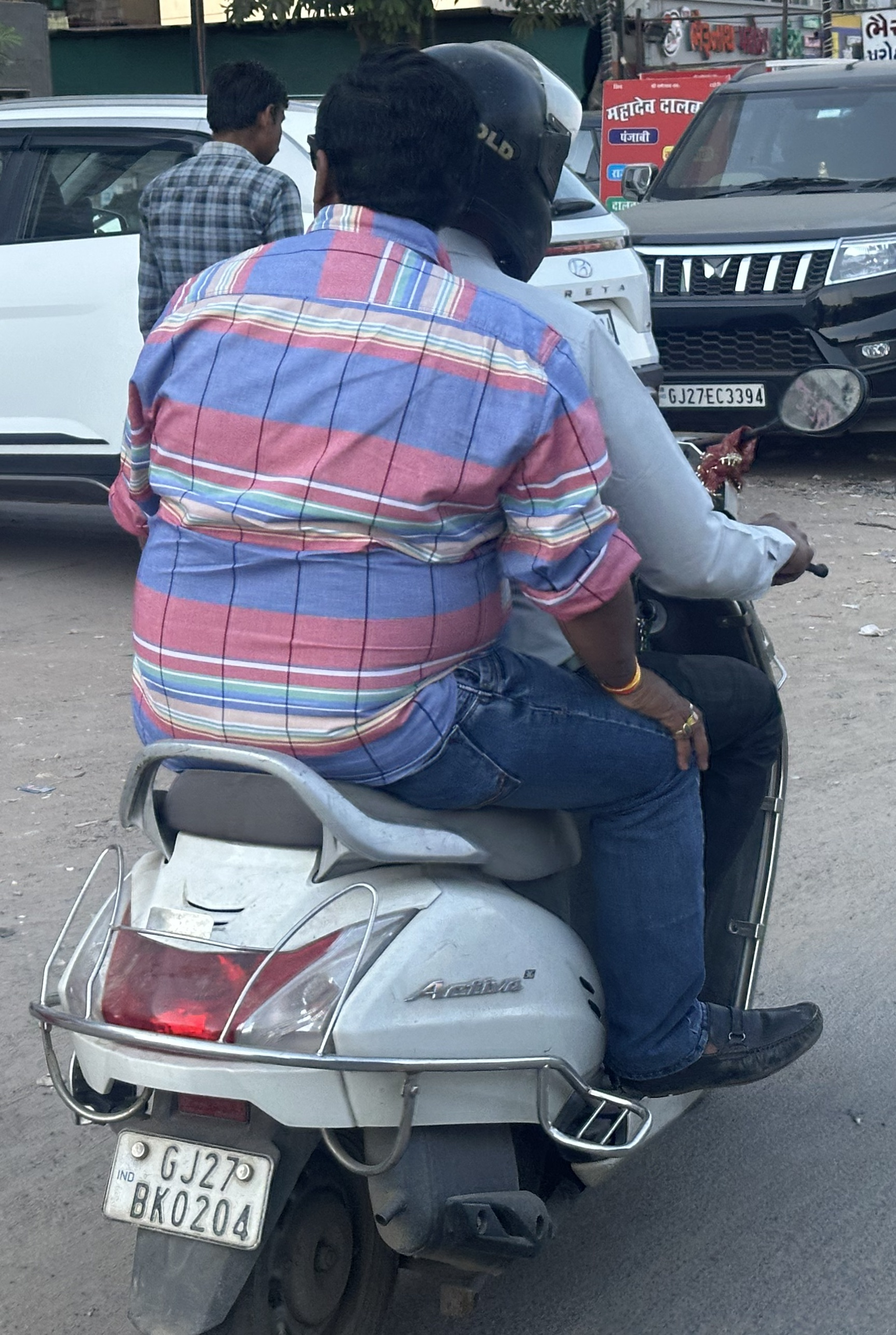BikeWithRider: (30, 17, 866, 1329)
Helmet: (400, 29, 583, 301)
NoHelmet: (299, 41, 479, 237)
